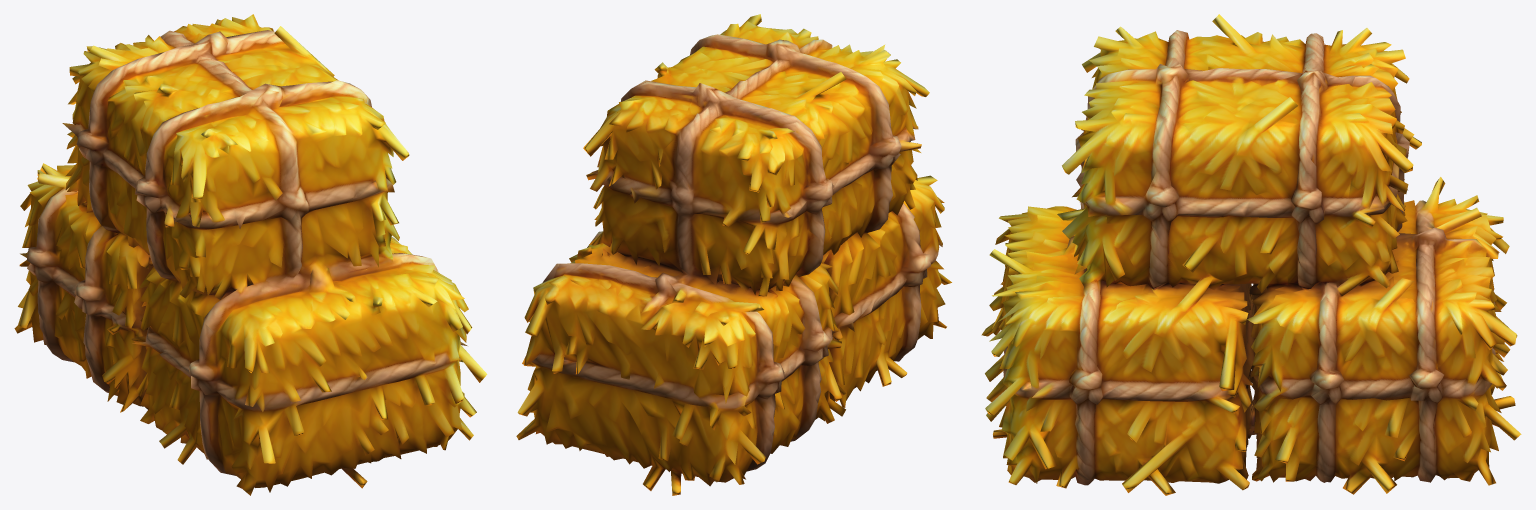
Rendered from Kit_P_HayBales_HD_src.glb.
The picture shows the model from 3 angles, left to right: view 1: azimuth 30°, elevation 25°; view 2: azimuth 150°, elevation 25°; view 3: azimuth 270°, elevation 25°; orthographic projection. The views are drawn at different scales.
Visible parts, largest first — view 1: tripo_node_3aeb5a58-5d75-4ded-90d9-ec0865a42157; view 2: tripo_node_3aeb5a58-5d75-4ded-90d9-ec0865a42157; view 3: tripo_node_3aeb5a58-5d75-4ded-90d9-ec0865a42157.
Boxes of the visible parts, x1,y1,x2,y2 form: tripo_node_3aeb5a58-5d75-4ded-90d9-ec0865a42157: (14,14,487,495); tripo_node_3aeb5a58-5d75-4ded-90d9-ec0865a42157: (516,14,951,495); tripo_node_3aeb5a58-5d75-4ded-90d9-ec0865a42157: (981,14,1521,495).
Bounding box in the file's own units: 0.6249 × 0.7766 × 0.9845.
1 material, 1 textured.
